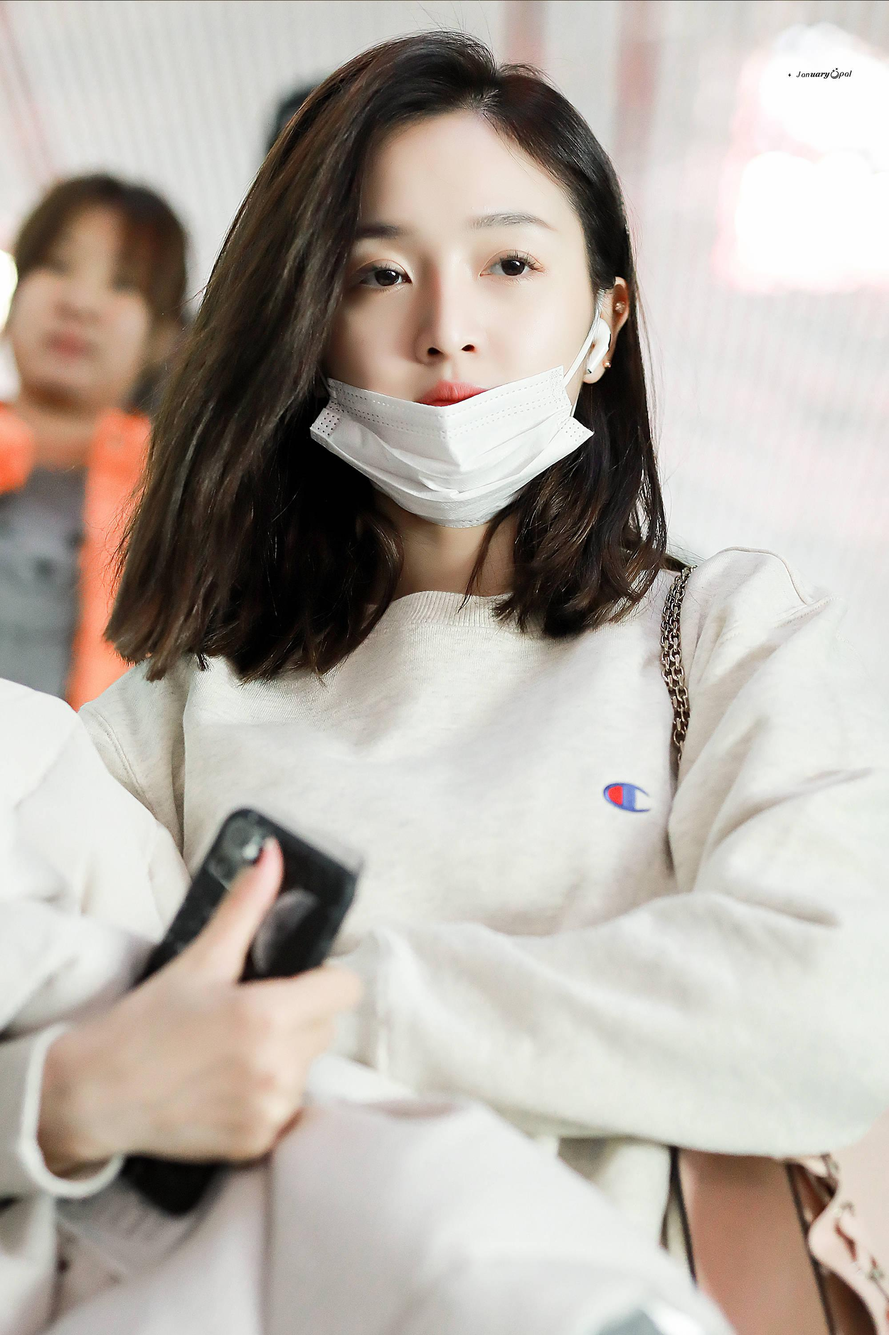WRONG: (320, 174, 589, 486), (15, 238, 155, 394)
